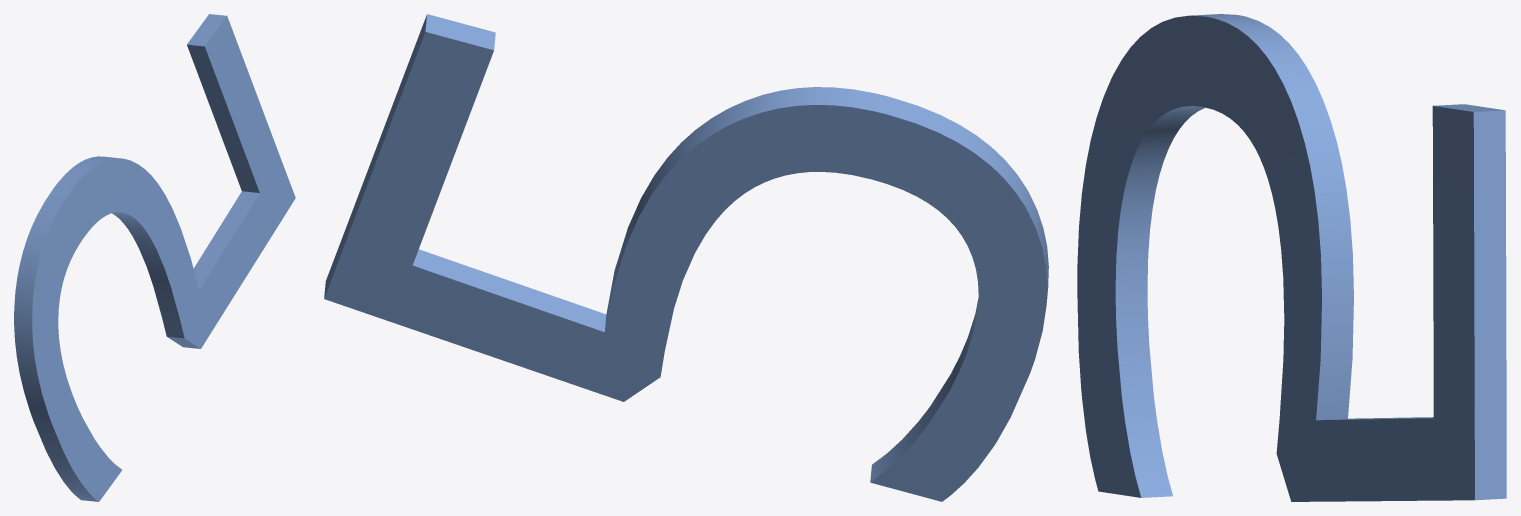
File: New_Number_5.gltf
3 views of the same model, side by side, from view 1: azimuth 30°, elevation 25°; view 2: azimuth 150°, elevation 25°; view 3: azimuth 270°, elevation 25° (orthographic). The views are drawn at different scales.
Parts seen in each view (by area): view 1: Part 545; view 2: Part 545; view 3: Part 545.
Boxes of the visible parts, bbox=[...] form: Part 545: bbox=[14, 14, 295, 501]; Part 545: bbox=[324, 14, 1048, 501]; Part 545: bbox=[1077, 14, 1506, 501].
Bounding box in the file's own units: 0.00521 × 0.00449 × 0.00301.
